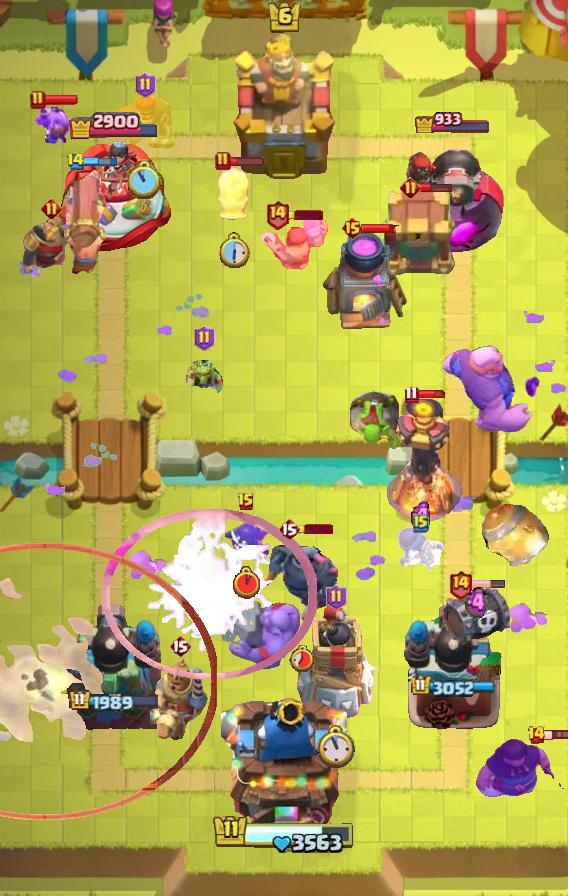archer-queen: (214, 596, 304, 674)
balloon: (440, 343, 534, 435)
bar-level: (349, 390, 403, 452)
barbarian-evolution: (102, 508, 317, 680)
battle-healer: (62, 162, 110, 276)
bomb: (382, 189, 460, 277)
clock: (212, 814, 356, 856)
dirt: (476, 493, 552, 573)
electro-dragon: (386, 396, 464, 522)
electro-spirit: (409, 502, 436, 531), (464, 587, 487, 621)
elixir: (317, 725, 355, 769), (128, 161, 162, 199), (217, 231, 251, 269), (233, 566, 260, 599), (288, 644, 315, 672)
emote: (43, 94, 79, 106), (229, 157, 265, 168), (82, 157, 117, 168), (419, 182, 454, 193), (361, 222, 395, 233), (287, 210, 323, 220), (297, 524, 333, 534), (470, 579, 506, 589), (416, 389, 448, 399), (544, 729, 568, 741)
executioner: (215, 164, 251, 224)
firecracker: (22, 213, 81, 274)
goblin-ball: (395, 525, 447, 579)
golemite: (264, 526, 340, 622)
hunter: (321, 225, 411, 333)
king-tower: (221, 690, 347, 826), (231, 35, 337, 182)
mighty-miner: (262, 213, 330, 275)
phoenix-small: (111, 96, 179, 154)
queen-tower: (51, 137, 177, 255)
ram-rider: (150, 659, 210, 743)
royal-delivery: (33, 103, 71, 145)
royal-ghost: (0, 544, 216, 821)
royal-hog: (476, 737, 568, 799)
royal-recruit-evolution: (439, 585, 513, 649)
selected: (68, 110, 160, 139), (68, 689, 160, 714), (414, 109, 492, 133), (412, 675, 497, 697)
spear-goblin: (222, 513, 270, 561)
text: (266, 198, 291, 229), (447, 569, 472, 600), (193, 325, 215, 351), (340, 216, 363, 240), (135, 72, 156, 98), (325, 584, 346, 610), (278, 517, 300, 541), (169, 634, 191, 658), (399, 177, 421, 198), (41, 197, 62, 219), (526, 725, 546, 745), (67, 153, 86, 172), (237, 492, 255, 512), (30, 90, 46, 110), (215, 151, 231, 171), (413, 513, 429, 533), (405, 385, 419, 403)
tower-bar: (64, 601, 164, 731), (403, 601, 503, 731), (401, 138, 505, 256)
zap: (185, 356, 223, 400)
zappy: (293, 602, 379, 722)
